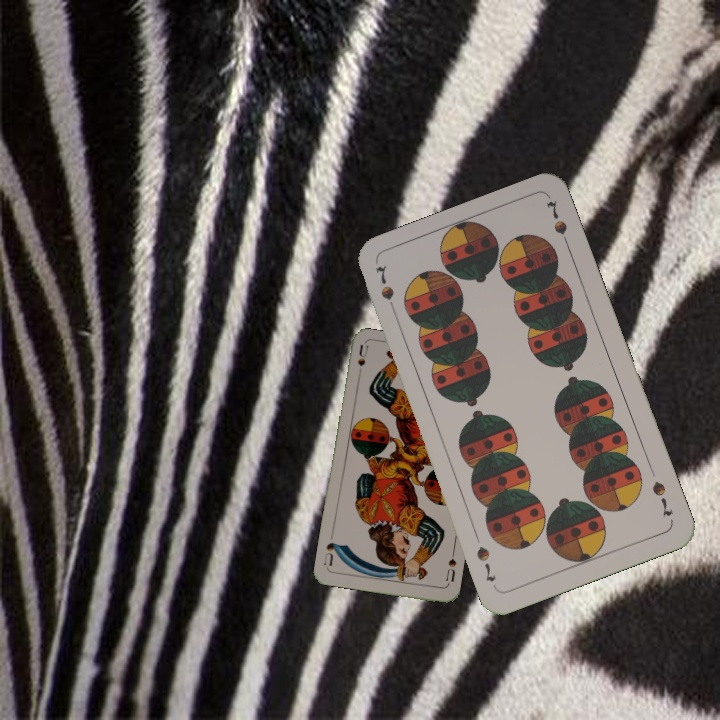S7: (371, 261, 399, 319), (648, 477, 676, 520)
SU: (354, 342, 371, 383), (442, 547, 459, 584)
